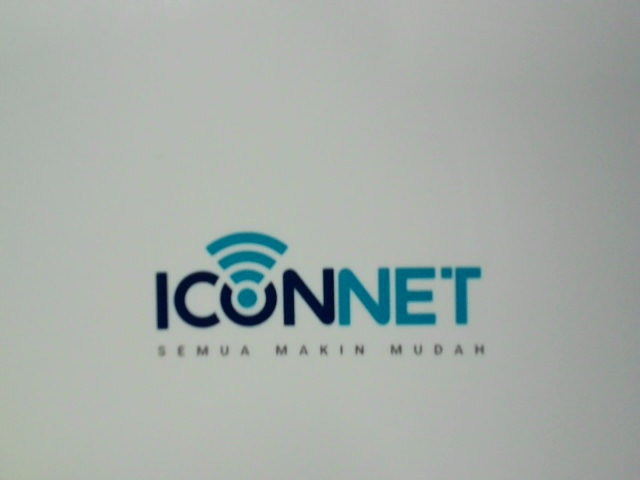BM_ICONNET: (127, 220, 501, 370)
